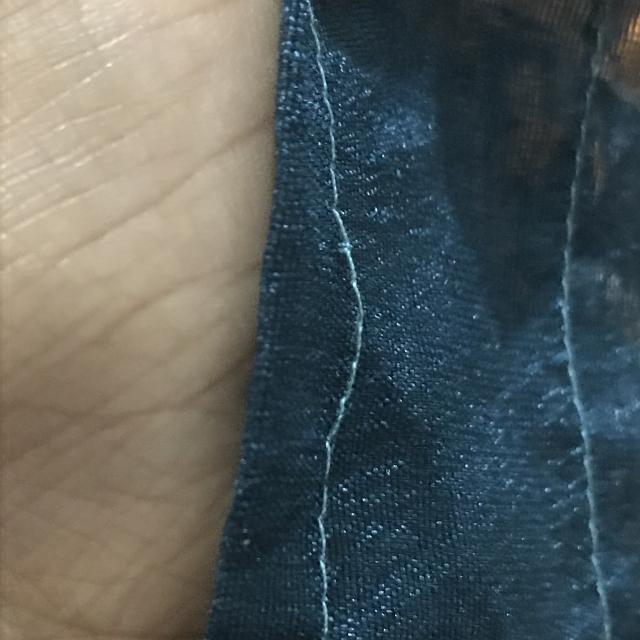skip: (314, 174, 382, 494)
